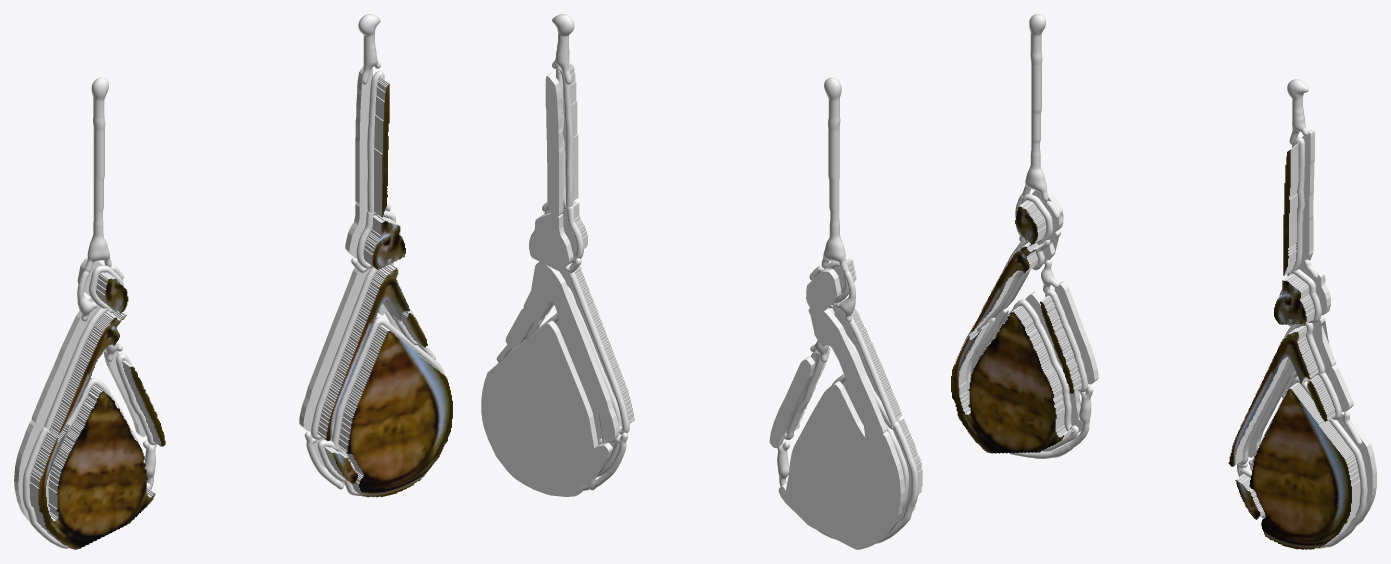
The picture shows the model from 3 angles, left to right: view 1: azimuth 30°, elevation 25°; view 2: azimuth 150°, elevation 25°; view 3: azimuth 330°, elevation 25°; orthographic projection. The views are drawn at different scales.
Visible parts, largest first — view 1: joya; view 2: joya; view 3: joya.
Boxes of the visible parts, <box> form: joya: <box>14,14,452,549</box>; joya: <box>481,14,922,549</box>; joya: <box>951,14,1376,549</box>.
Size of the model in its own units: 0.0348 by 0.0375 by 0.00325.
Materials: 3 (1 with a texture image).
